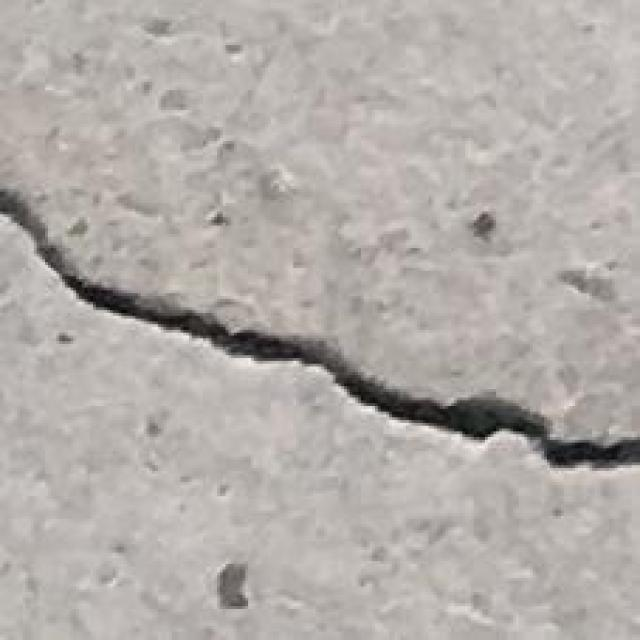Crack: (3, 169, 640, 488)
